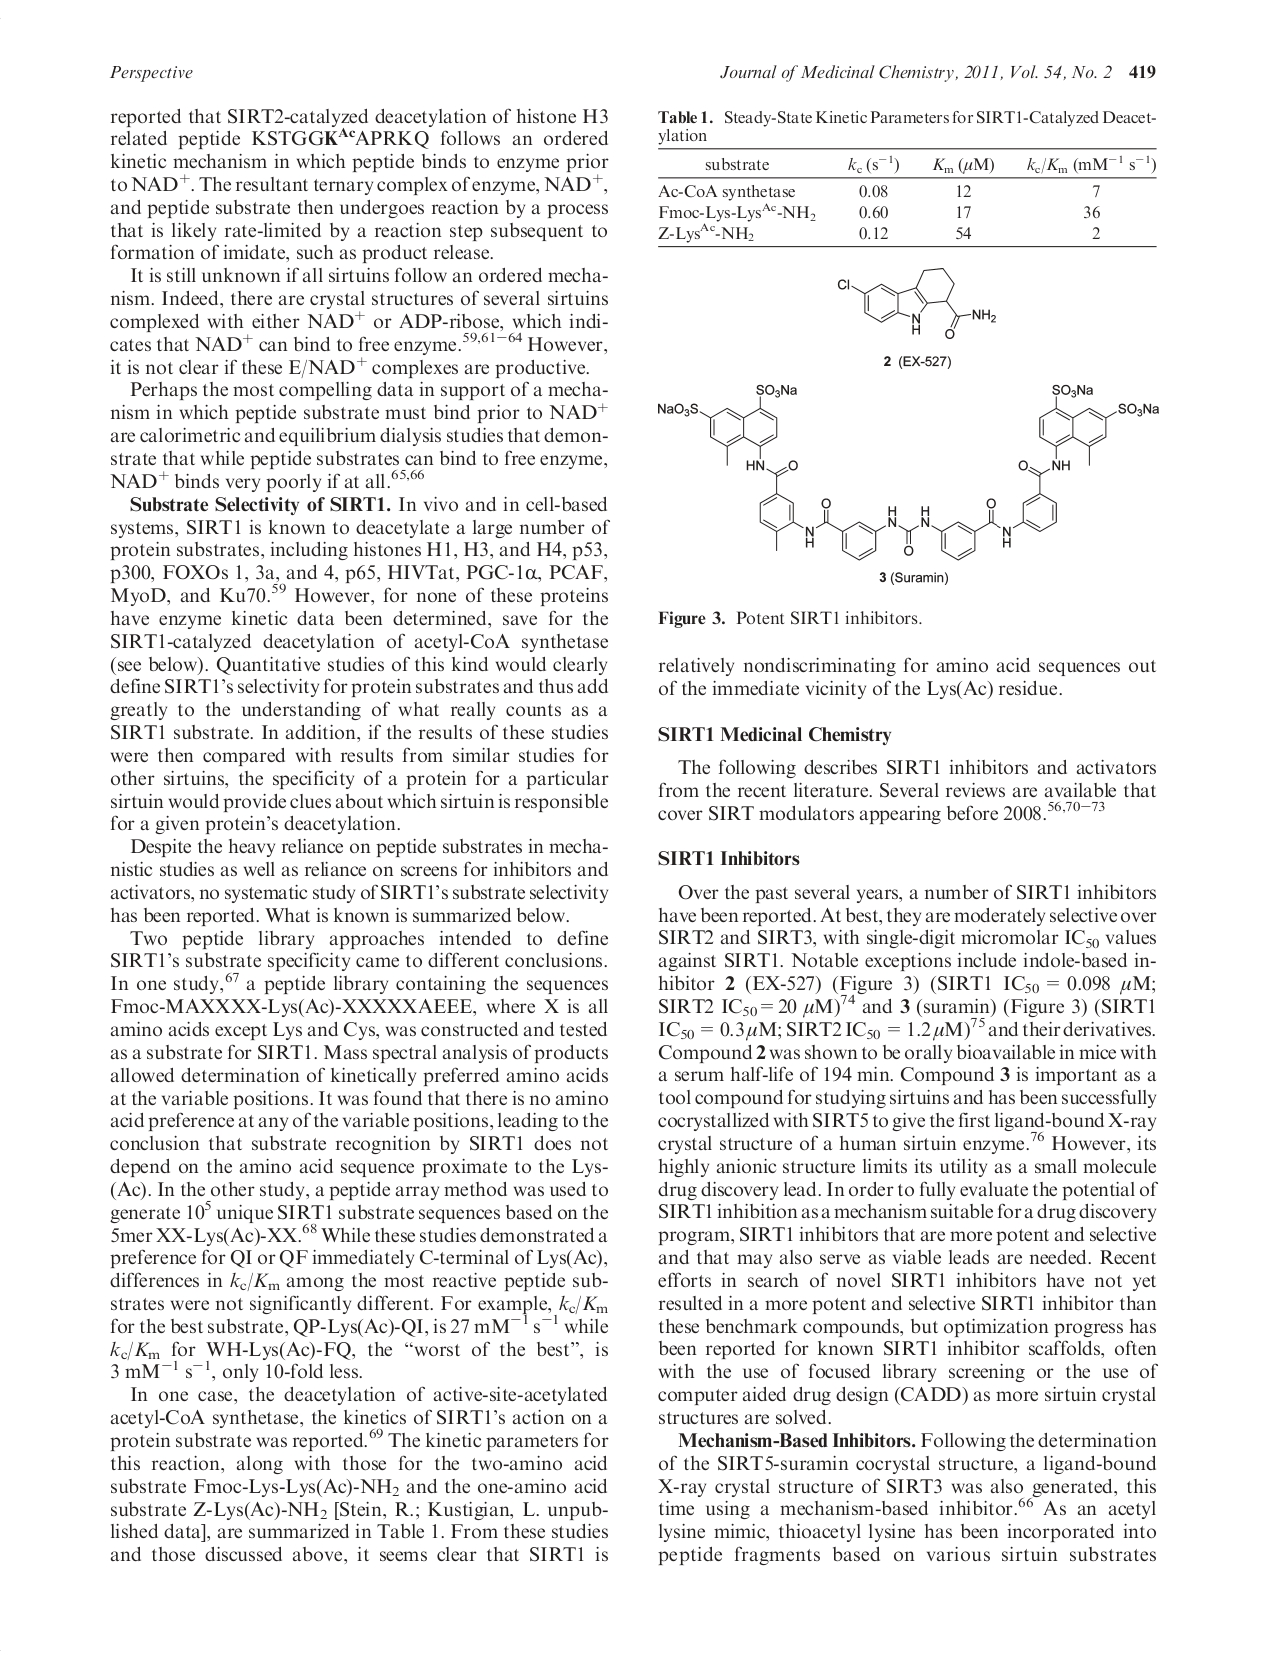exist_molecular: (654, 382, 1161, 563), (836, 265, 997, 342)
